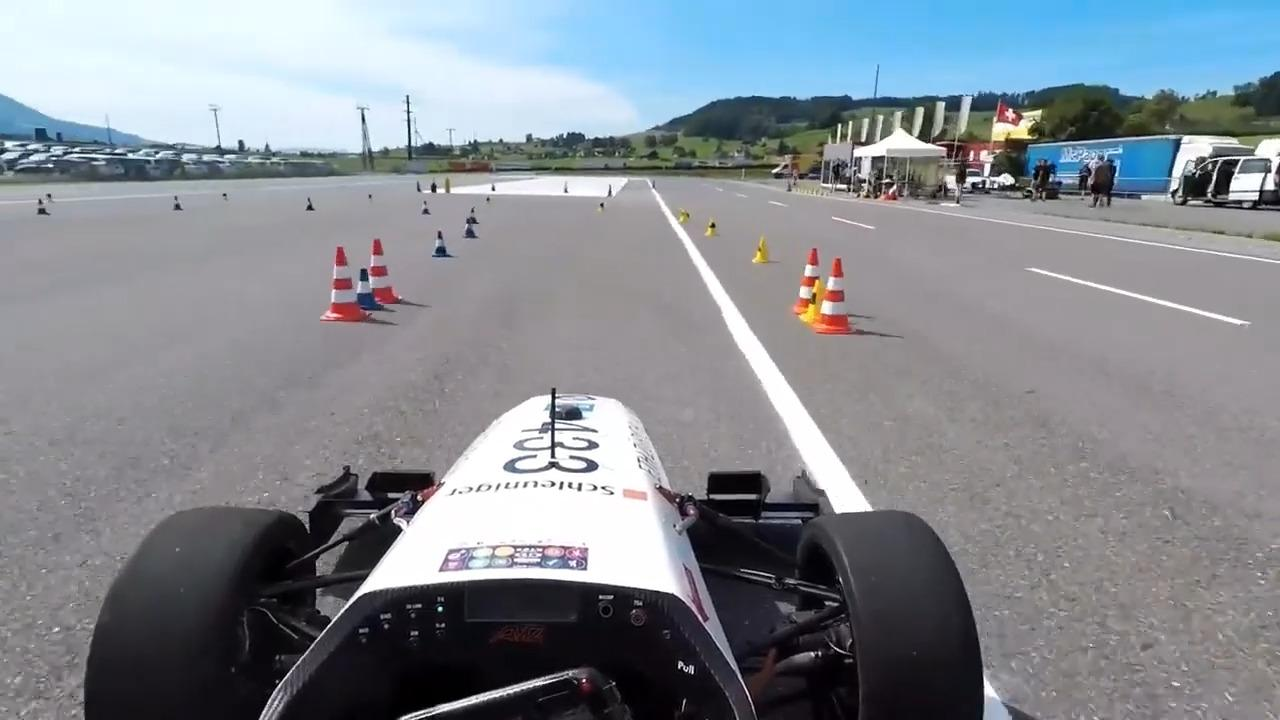blue_cone: (353, 268, 385, 310), (428, 229, 453, 259), (462, 217, 481, 240), (467, 206, 482, 225)
large_orange_cone: (319, 243, 373, 323), (813, 254, 855, 335), (366, 237, 404, 305), (793, 245, 825, 315)
yellow_cone: (801, 280, 826, 324), (752, 235, 771, 263), (704, 217, 720, 237)
